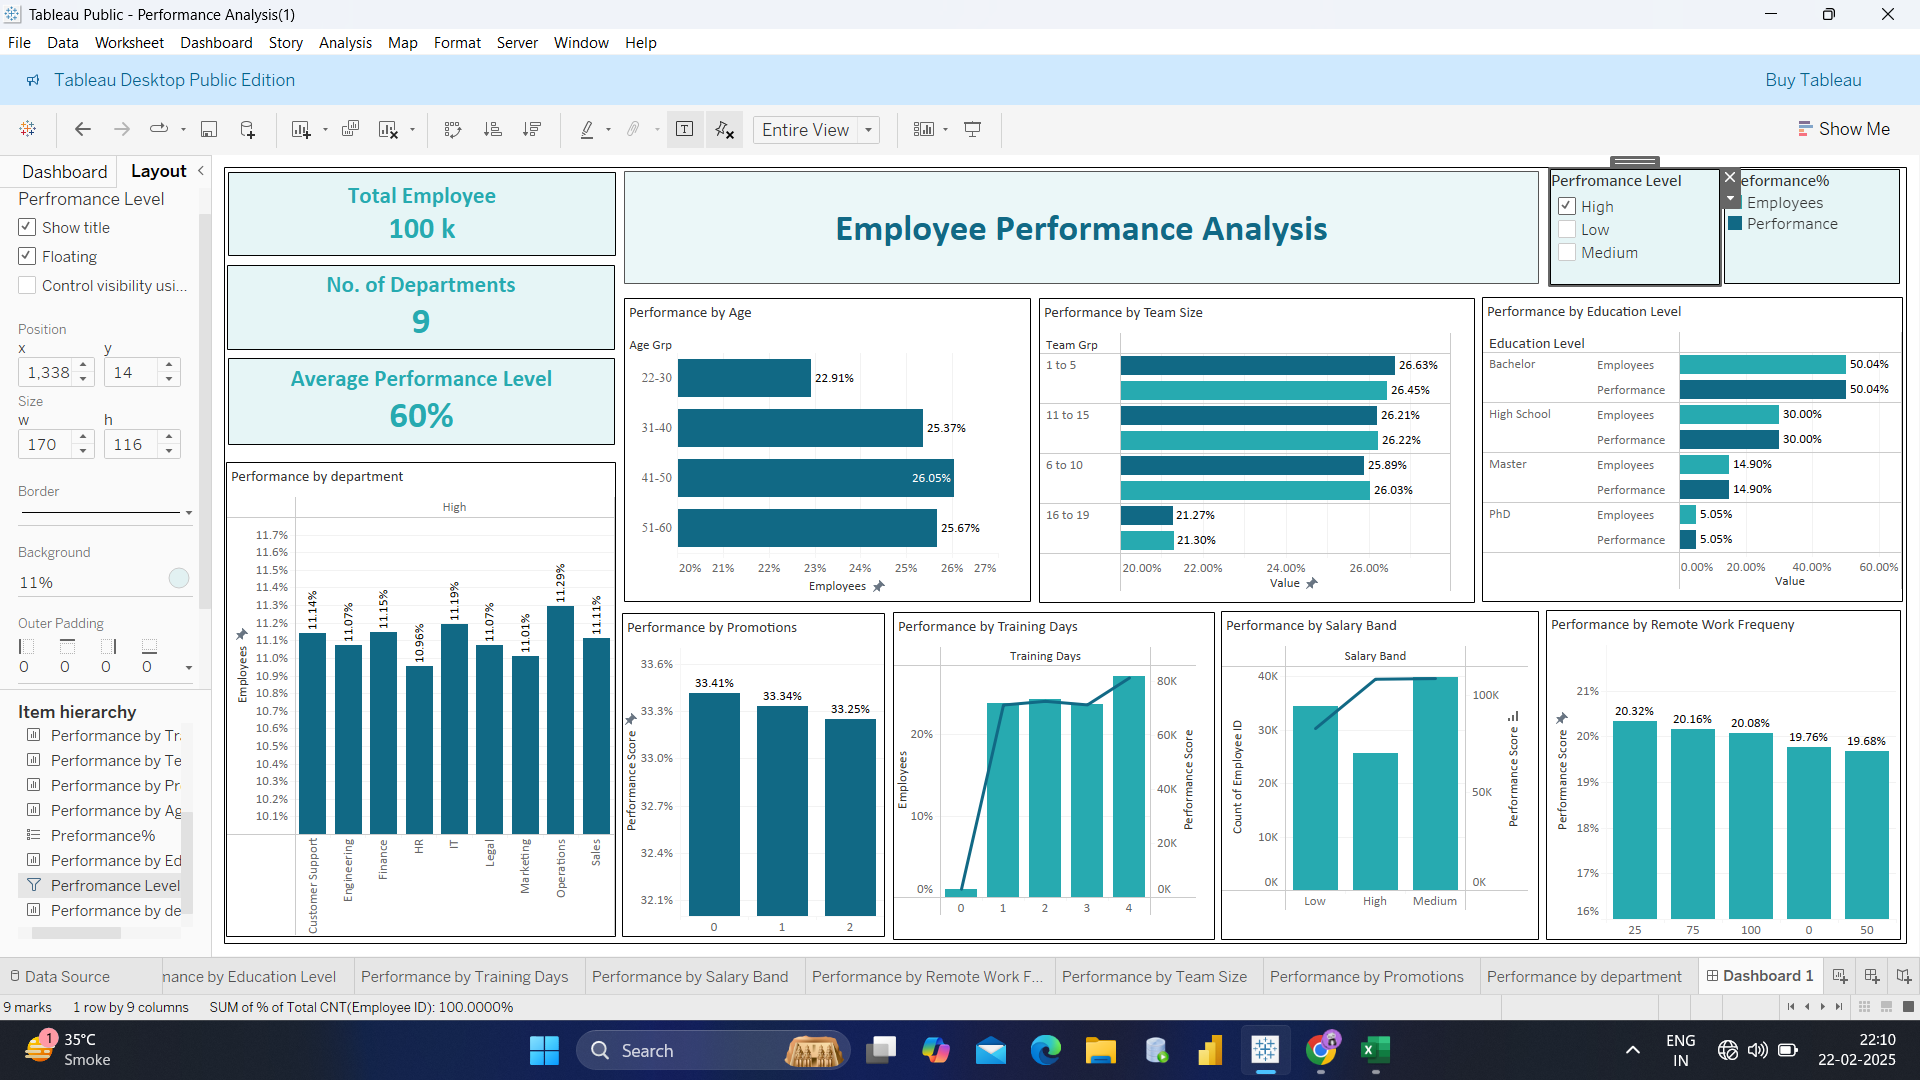

The page's visual inventory and layout, read from the dashboard file:
{"tool":"tableau","page":{"name":"Dashboard 1","canvas":[1000,1000],"units":"permille","ordinal":0},"visuals":[{"type":"filter","title":"Performance by department","param":"[federated.1tlit4z0ikbh14109wlzt1dof5rq].[none:Perfromance Level:nk]","box":[783.8,17.5,99.6,144.8]},{"type":"legend","title":"Performance by Education Level","param":"[federated.1tlit4z0ikbh14109wlzt1dof5rq].[:Measure Names]","box":[885.8,17.5,103.1,143.6]},{"type":"text","box":[240.8,18.7,537.2,143.6]},{"type":"text","box":[9.4,21.2,227.3,104.9]},{"type":"text","box":[8.8,137.3,227.3,106.1]},{"type":"worksheet","title":"Performance by Education Level","mark":"Automatic","rows":["Education_Level"],"box":[744,177.3,246.6,380.8]},{"type":"worksheet","title":"Performance by Age","mark":"Automatic","rows":["Age Grp"],"box":[241.4,178.5,238.4,379.5]},{"type":"worksheet","title":"Performance by Team Size","mark":"Automatic","rows":["Team Grp"],"box":[484.5,178.5,255.4,380.8]},{"type":"text","box":[9.4,253.4,226.7,108.6]},{"type":"worksheet","title":"Performance by department","mark":"Automatic","cols":["Perfromance Level","Department"],"box":[8.2,383.3,228.5,593]},{"type":"worksheet","title":"Performance by Remote Work Frequeny","mark":"Automatic","cols":["Remote_Work_Frequency"],"box":[781.5,568,208,412]},{"type":"worksheet","title":"Performance by Salary Band","mark":"Automatic","rows":["Employee_ID","Performance_Score"],"cols":["Salary Band"],"box":[591.1,569.3,186.3,410.7]},{"type":"worksheet","title":"Performance by Training Days","mark":"Automatic","rows":["Performance_Score"],"cols":["Training Days"],"box":[398.9,570.5,188.6,409.5]},{"type":"worksheet","title":"Performance by Promotions","mark":"Automatic","cols":["Promotions"],"box":[240.2,571.8,154.1,404.5]}]}

Visuals, with their boxes on the dashboard's canvas, which has no fixed pixel size, in thousandths of its width and height (x1, y1, x2, y2). These are canvas units, not pixel positions in the 1920x1080 screenshot, which may show the page scaled, cropped or inside an application window:
"Performance by department" filter: select_region(784, 18, 883, 162)
"Performance by Education Level" legend: select_region(886, 18, 989, 161)
text: select_region(241, 19, 778, 162)
text: select_region(9, 21, 237, 126)
text: select_region(9, 137, 236, 243)
"Performance by Education Level" worksheet: select_region(744, 177, 991, 558)
"Performance by Age" worksheet: select_region(241, 178, 480, 558)
"Performance by Team Size" worksheet: select_region(484, 178, 740, 559)
text: select_region(9, 253, 236, 362)
"Performance by department" worksheet: select_region(8, 383, 237, 976)
"Performance by Remote Work Frequeny" worksheet: select_region(782, 568, 990, 980)
"Performance by Salary Band" worksheet: select_region(591, 569, 777, 980)
"Performance by Training Days" worksheet: select_region(399, 570, 588, 980)
"Performance by Promotions" worksheet: select_region(240, 572, 394, 976)
